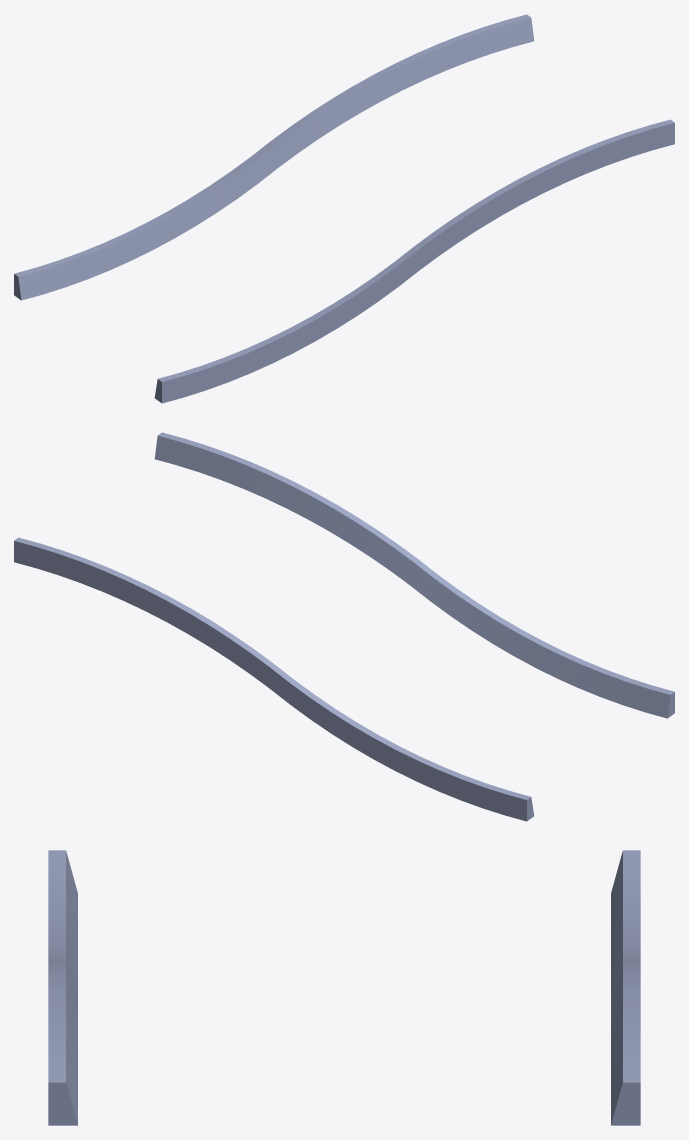
Rendered from road-slant-curve-barrier.glb.
3 renders of one model, top to bottom at view 1: azimuth 30°, elevation 25°; view 2: azimuth 150°, elevation 25°; view 3: azimuth 270°, elevation 25°, orthographic. The views are drawn at different scales.
Parts seen in each view (by area): view 1: road-slant-curve-barrier; view 2: road-slant-curve-barrier; view 3: road-slant-curve-barrier.
Boxes of the visible parts, x1=… form: road-slant-curve-barrier: x1=14, y1=14, x2=674, y2=403; road-slant-curve-barrier: x1=14, y1=432, x2=674, y2=821; road-slant-curve-barrier: x1=48, y1=850, x2=640, y2=1125.
Bounding box in the file's own units: 2 × 0.58 × 1.
1 material, 1 textured.
